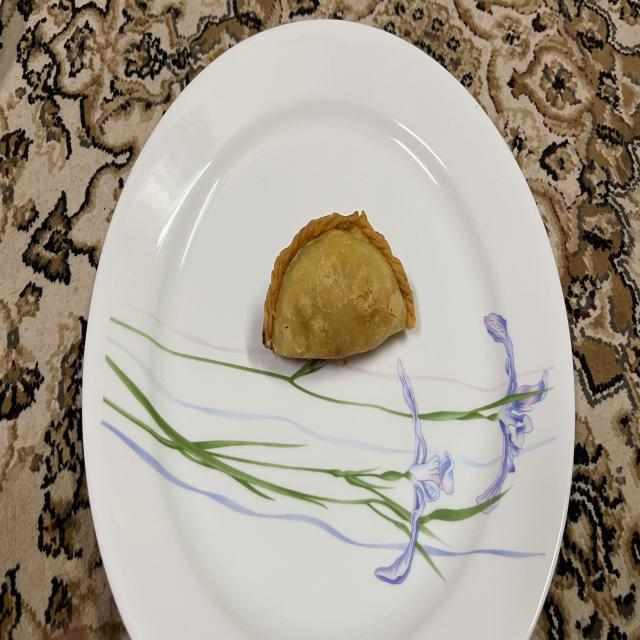karipap: (262, 211, 416, 360)
